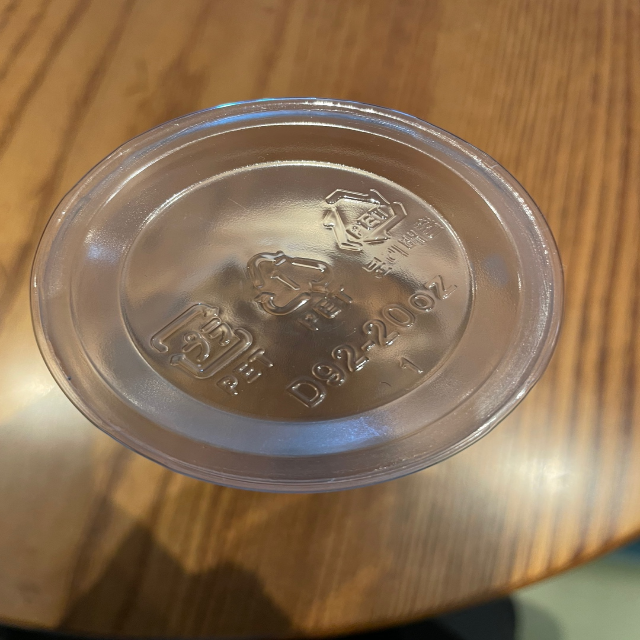pet: (144, 299, 272, 399), (323, 182, 440, 277), (243, 244, 356, 334)
